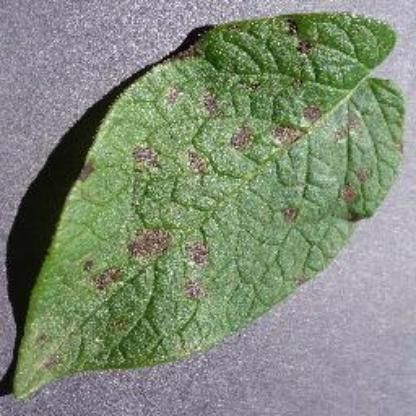Early-Blight: (12, 8, 406, 400)
